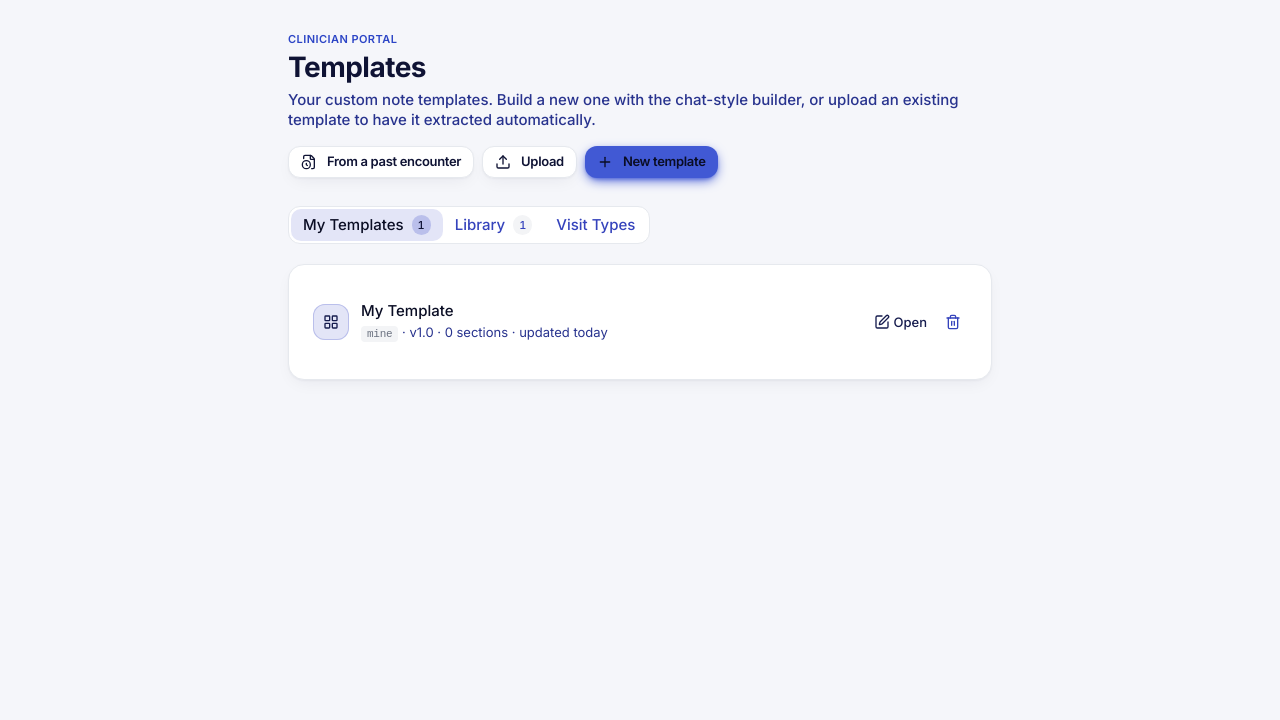
Test case: PortalTemplatesPage — from a past encounter (from-note, flag-gated) › shows the button; picker lists only note-bearing encounters and seeds
Later steps or results of the test are not shown.
Click the button "From a past encounter" at point(381, 162), box [288, 146, 474, 178]
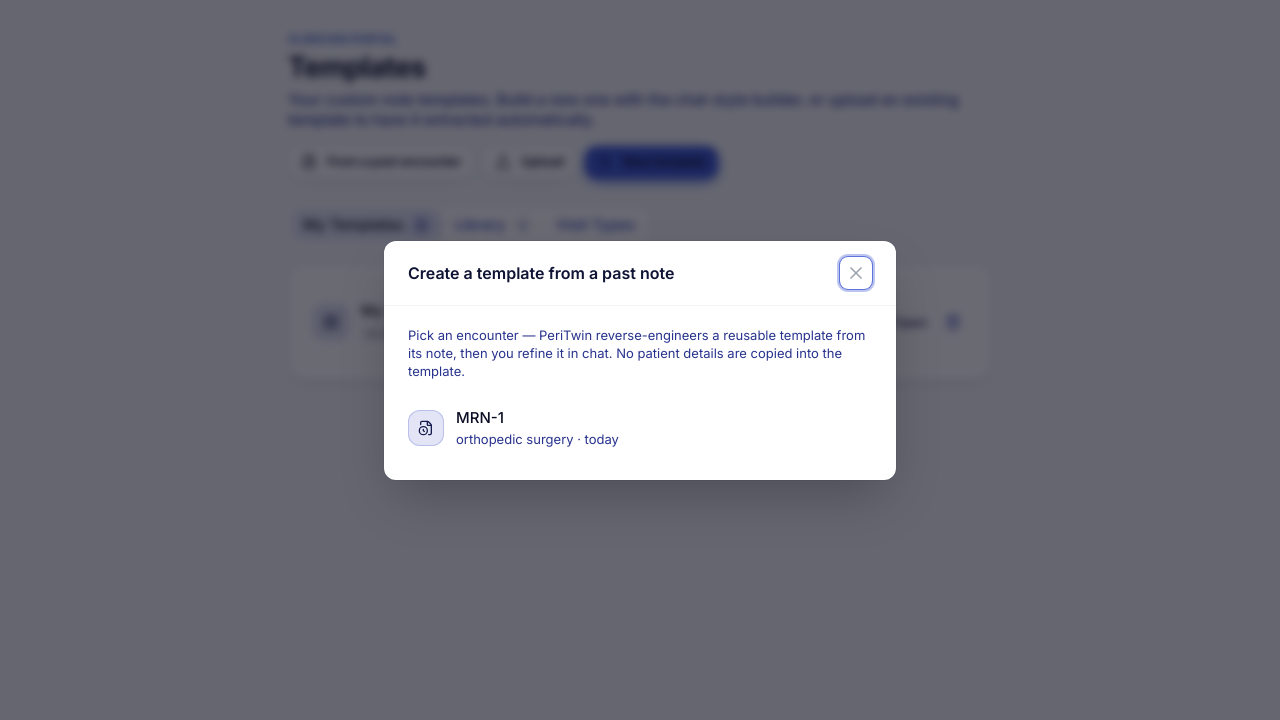
Check: the text "MRN-1" is shown, box [456, 408, 504, 426]
